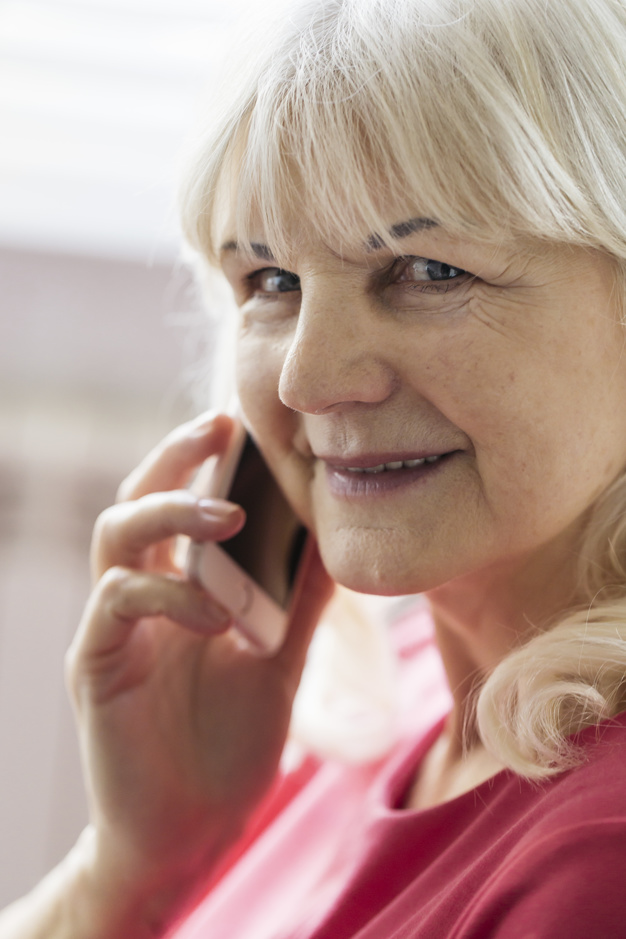phone: (84, 383, 321, 679)
talk: (54, 198, 533, 859)
